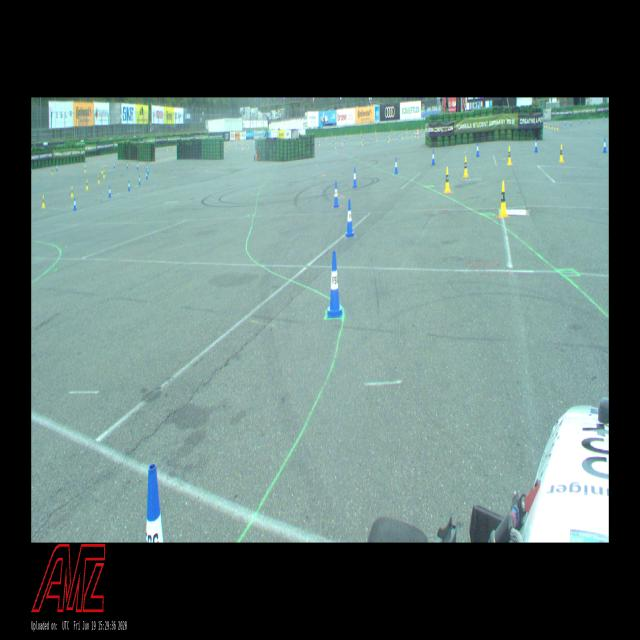blue_cone: (146, 463, 164, 542), (326, 250, 343, 318), (346, 200, 354, 237), (334, 182, 339, 207), (353, 167, 357, 188), (394, 157, 398, 174), (603, 138, 607, 153), (534, 138, 538, 152), (432, 149, 435, 165), (73, 198, 77, 210), (476, 142, 479, 156), (109, 186, 111, 198), (128, 180, 130, 191), (138, 175, 140, 185), (146, 171, 148, 180), (136, 163, 138, 170), (148, 168, 149, 175), (114, 162, 115, 168), (127, 162, 128, 168)
yellow_cone: (499, 181, 508, 217), (444, 167, 450, 193), (463, 156, 468, 177), (507, 146, 512, 165), (559, 144, 564, 162), (71, 185, 74, 198), (42, 195, 45, 208), (86, 179, 88, 190), (98, 174, 100, 184), (102, 166, 104, 174), (104, 170, 105, 178), (85, 165, 86, 172)
